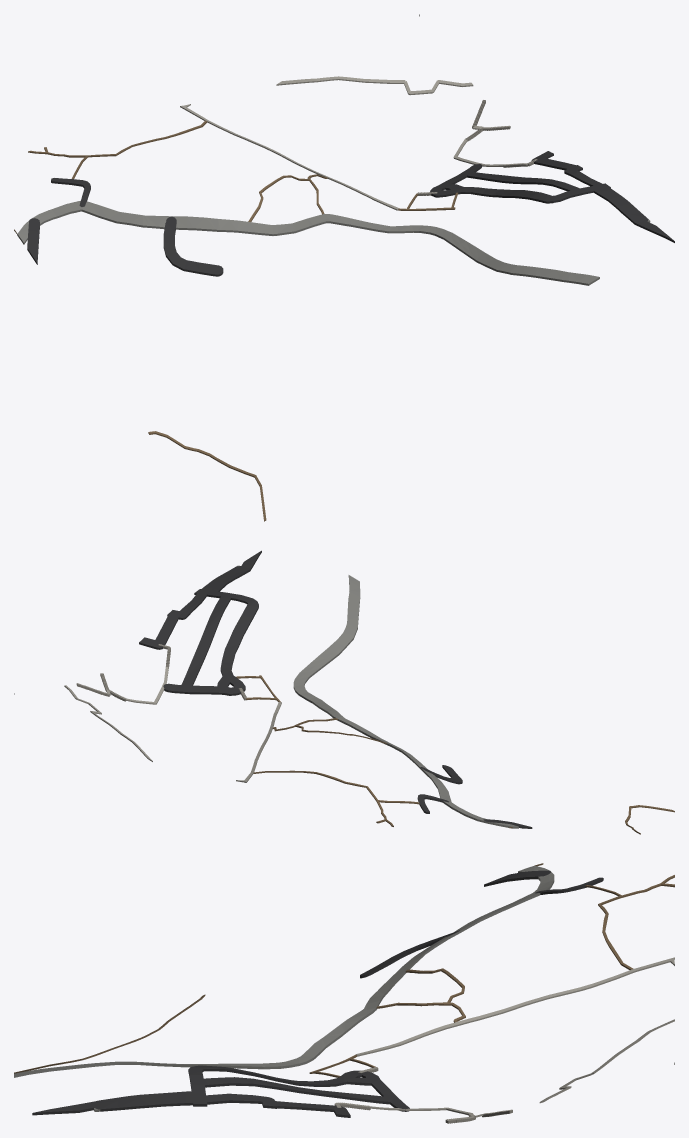
The picture shows the model from 3 angles, top to bottom: view 1: azimuth 30°, elevation 25°; view 2: azimuth 150°, elevation 25°; view 3: azimuth 270°, elevation 25°; orthographic projection. The views are drawn at different scales.
Bounding box in the file's own units: 294 × 131 × 292.
